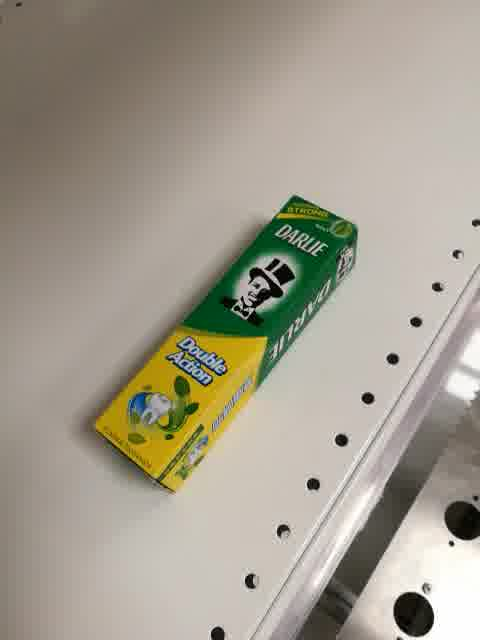toothpaste: (92, 194, 359, 498)
